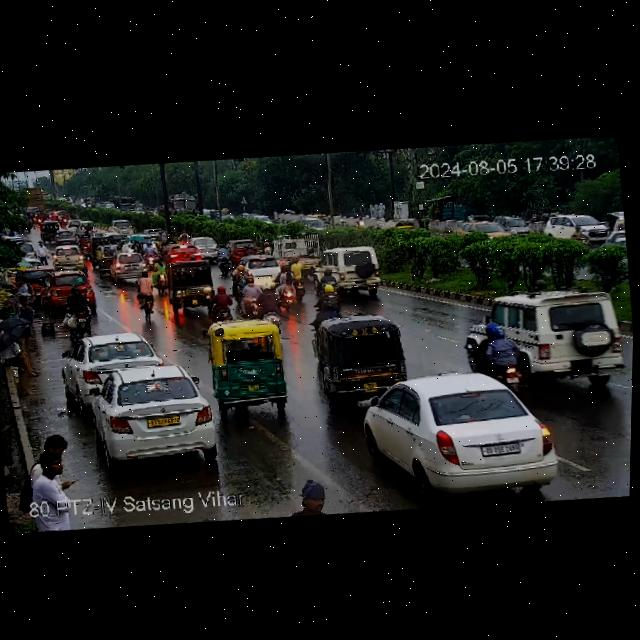car: (355, 356, 560, 507), (467, 277, 629, 387), (82, 361, 219, 470), (308, 306, 414, 407), (204, 313, 295, 418), (61, 326, 163, 401), (538, 208, 620, 252), (319, 242, 380, 296), (165, 257, 220, 306), (35, 269, 92, 309), (240, 252, 283, 288), (107, 251, 150, 285), (53, 243, 86, 273), (167, 241, 203, 264), (227, 234, 260, 256), (192, 234, 216, 256), (94, 243, 120, 262), (90, 232, 119, 249), (129, 232, 155, 250), (39, 220, 61, 238)
motorcycle: (477, 317, 523, 393), (61, 282, 93, 335), (207, 283, 237, 322), (313, 281, 343, 315), (138, 268, 157, 321), (276, 258, 295, 309), (255, 277, 277, 319), (289, 254, 308, 302), (151, 253, 169, 296), (241, 275, 258, 311), (216, 246, 236, 276), (233, 261, 249, 298), (317, 267, 330, 281), (178, 228, 189, 241)
person: (295, 474, 337, 517), (0, 335, 37, 379), (35, 448, 68, 497), (16, 296, 36, 351), (14, 276, 38, 308), (45, 431, 71, 455), (37, 240, 49, 266)
truck: (268, 227, 318, 268)
